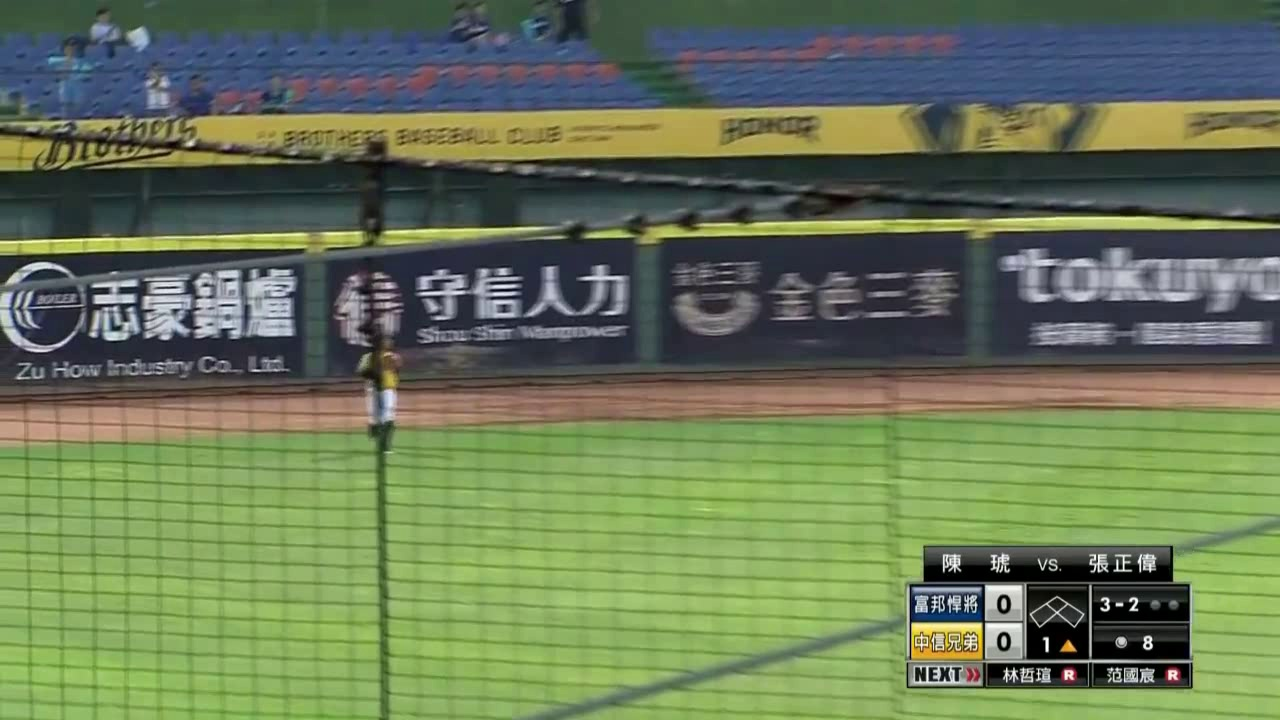base: (1027, 595, 1086, 631)
out: (1143, 591, 1181, 613)
score1: (982, 589, 1025, 620)
score2: (986, 625, 1021, 654)
session: (1032, 634, 1084, 662)
strikeball: (1094, 588, 1143, 617)
total: (1109, 631, 1158, 652)
